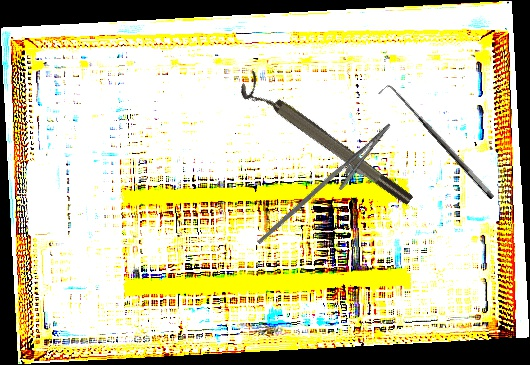Fixation Ring: (236, 70, 416, 216)
Hook Surgical: (378, 80, 496, 208)
Needle Holder: (256, 108, 402, 268)
